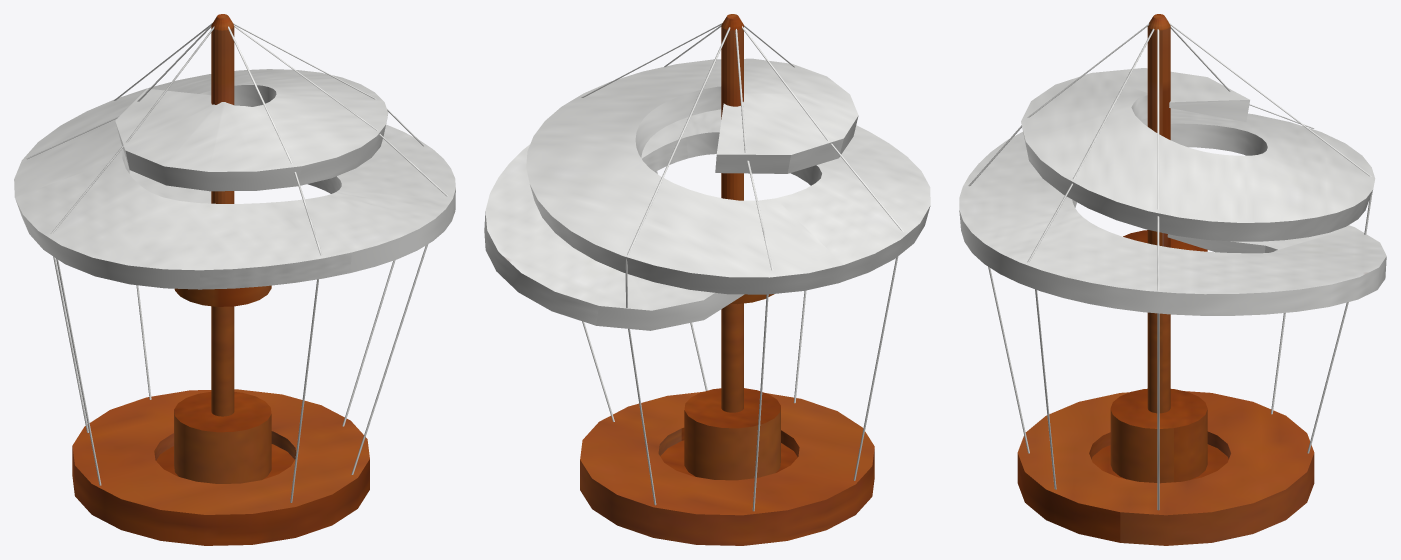
Rendered from Helicopter 1.fbx.
3 renders of one model, left to right at view 1: azimuth 30°, elevation 25°; view 2: azimuth 150°, elevation 25°; view 3: azimuth 270°, elevation 25°, orthographic.
Parts seen in each view (by area): view 1: pPlane1, pCylinder3, pCylinder4, pCylinder5, pCylinder7, pCylinder6, pCylinder11, pCylinder16, pasted__pCylinder8; view 2: pPlane1, pCylinder3, pCylinder4, pCylinder7, pCylinder5, pasted__pCylinder13, pCylinder16, pCylinder10; view 3: pPlane1, pCylinder3, pCylinder4, pCylinder7, pCylinder5, pCylinder8, pCylinder11, pCylinder15, pasted__pCylinder8.
Boxes of the visible parts, <box> form: pPlane1: <box>14,69,455,289</box>; pCylinder3: <box>72,389,369,545</box>; pCylinder4: <box>174,391,271,483</box>; pCylinder5: <box>211,306,234,416</box>; pCylinder7: <box>211,14,234,203</box>; pCylinder6: <box>174,285,271,306</box>; pCylinder11: <box>351,244,428,474</box>; pCylinder16: <box>56,258,101,485</box>; pasted__pCylinder8: <box>290,279,318,502</box>; pPlane1: <box>484,58,930,330</box>; pCylinder3: <box>580,392,874,545</box>; pCylinder4: <box>684,388,780,480</box>; pCylinder7: <box>721,14,743,200</box>; pCylinder5: <box>721,303,743,412</box>; pasted__pCylinder13: <box>627,27,730,255</box>; pCylinder16: <box>853,256,898,480</box>; pCylinder10: <box>752,294,768,511</box>; pPlane1: <box>959,68,1386,315</box>; pCylinder3: <box>1017,391,1314,545</box>; pCylinder4: <box>1110,388,1207,483</box>; pCylinder7: <box>1147,14,1170,247</box>; pCylinder5: <box>1147,312,1170,413</box>; pCylinder8: <box>1157,313,1159,510</box>; pCylinder11: <box>1035,289,1056,489</box>; pCylinder15: <box>1157,29,1159,209</box>; pasted__pCylinder8: <box>988,266,1029,453</box>.
Bounding box in the file's own units: 2 × 2.35 × 1.96.
1 material, 1 textured.
